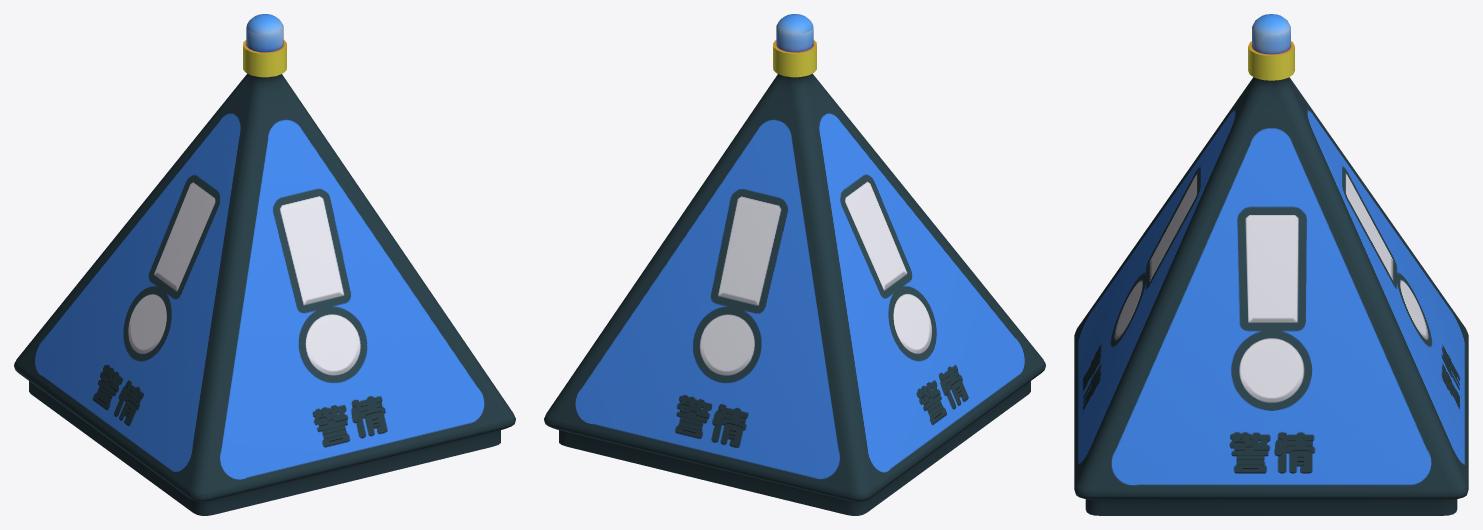
File: JingQingYuanSu_lanse.66229f0.glb
3 views of the same model, side by side, from view 1: azimuth 30°, elevation 25°; view 2: azimuth 150°, elevation 25°; view 3: azimuth 270°, elevation 25° (orthographic). The views are drawn at different scales.
Visible parts, largest first — view 1: 警情元素; view 2: 警情元素; view 3: 警情元素.
Part boxes in pixels (left/top/right/bottom): 警情元素: left=14, top=14, right=515, bottom=515; 警情元素: left=544, top=14, right=1045, bottom=515; 警情元素: left=1074, top=14, right=1468, bottom=515.
Size of the model in its own units: 0.9766 by 1.15 by 0.9766.
1 material, 1 textured.
